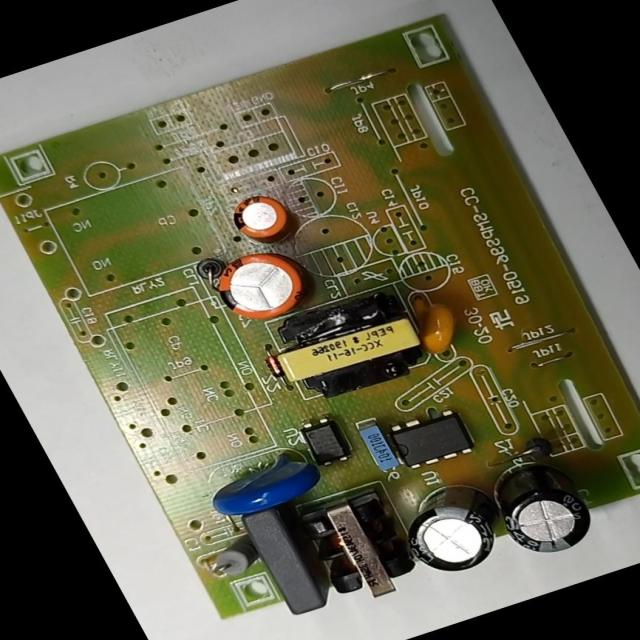Cap1: (199, 242, 318, 335)
Cap2: (215, 182, 304, 249)
Cap3: (382, 472, 516, 587)
Cap4: (469, 446, 608, 567)
MOSFET: (377, 398, 485, 477)
Mov: (189, 439, 331, 530)
Resistor: (190, 525, 266, 585)
Transformer: (252, 283, 442, 412), (281, 483, 430, 615)
